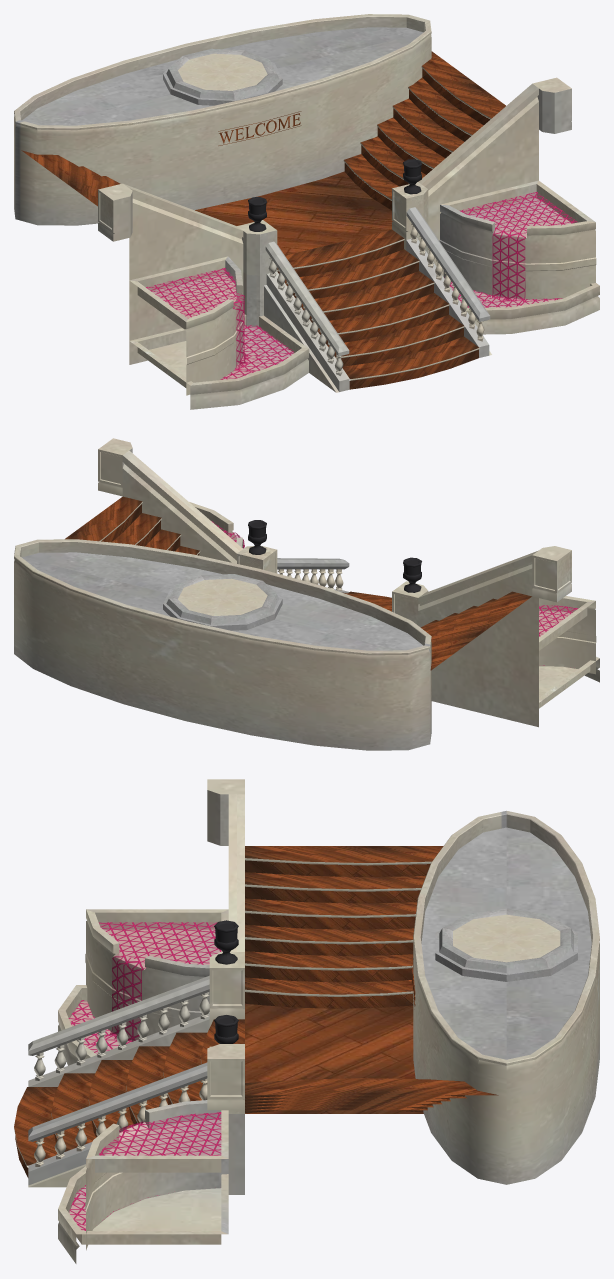
The model's file is stairs-hall-01-fountain-water.glb.
The picture shows the model from 3 angles, top to bottom: view 1: azimuth 30°, elevation 25°; view 2: azimuth 150°, elevation 25°; view 3: azimuth 270°, elevation 25°; orthographic projection. The views are drawn at different scales.
Visible parts, largest first — view 1: Stairs_Hall_01_Fountain_Water; view 2: Stairs_Hall_01_Fountain_Water; view 3: Stairs_Hall_01_Fountain_Water.
Boxes of the visible parts, x1,y1,x2,y2 form: Stairs_Hall_01_Fountain_Water: (14, 14, 599, 409); Stairs_Hall_01_Fountain_Water: (14, 438, 599, 750); Stairs_Hall_01_Fountain_Water: (14, 779, 599, 1263).
Bounding box in the file's own units: 17.7 × 6.52 × 15.69.
Materials: 3 (3 with a texture image).
